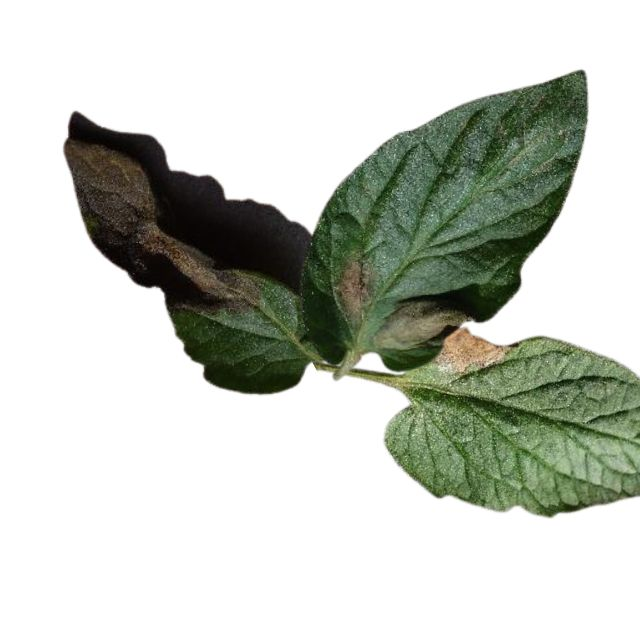Late_blight: (63, 140, 265, 315), (372, 293, 475, 350), (427, 326, 510, 376), (332, 258, 378, 328)
